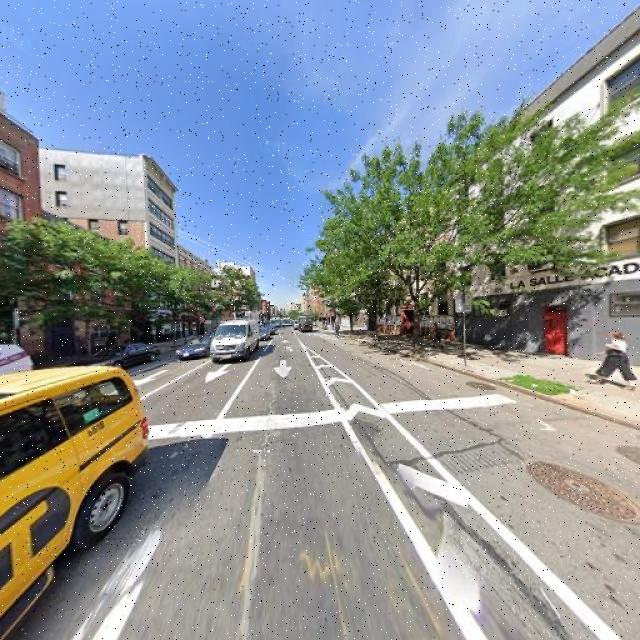Building: (457, 19, 640, 364), (49, 210, 145, 360), (1, 122, 40, 367), (149, 164, 173, 343), (177, 245, 210, 337)
